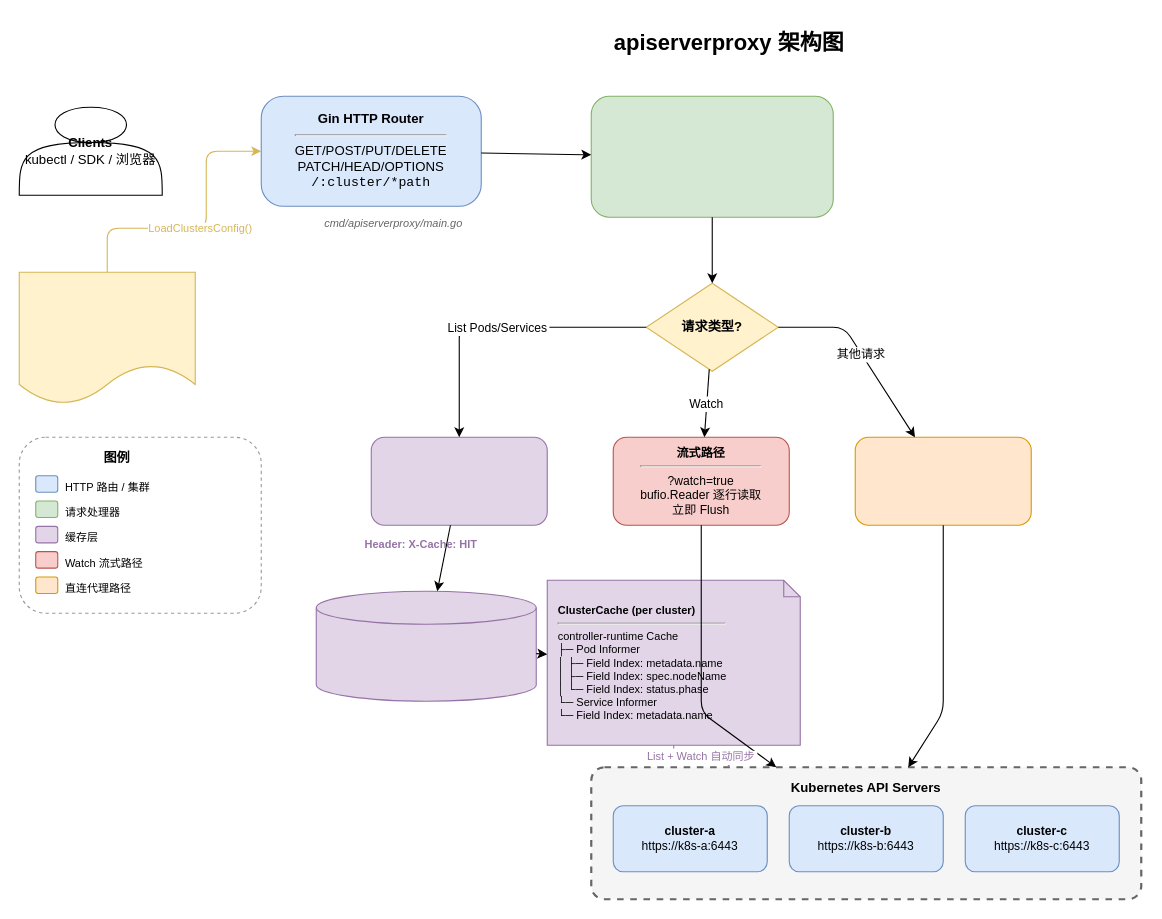
This 1162x919 diagram has some shape labels left out. Each missing label, with the centre of its shape:
Cache Manager caches map[string]*ClusterCache sync.RWMutex (并发安全): point (425, 645)
config.json clusters: - name: cluster-a server: https://... token: bearer-token: point (106, 337)
MultiClusterHandler 1. 解析 cluster 名称 2. 提取 API path 3. 判断请求类型 → 分发: point (711, 156)
直连路径 http.Client.Do() 转发到 K8s API Server: point (942, 480)
缓存路径 List Pods/Services (非 watch): point (458, 480)
